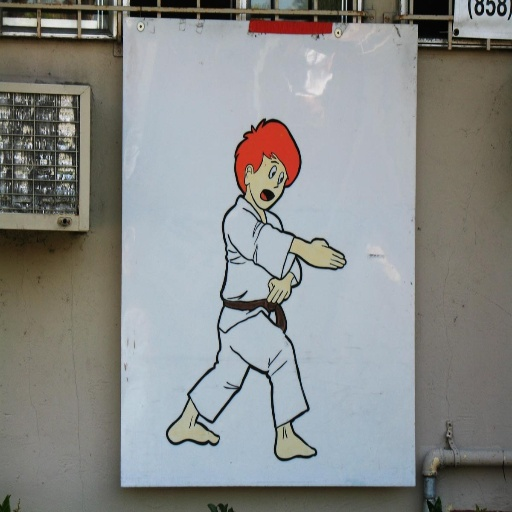hand: (300, 230, 345, 277), (267, 276, 291, 306)
